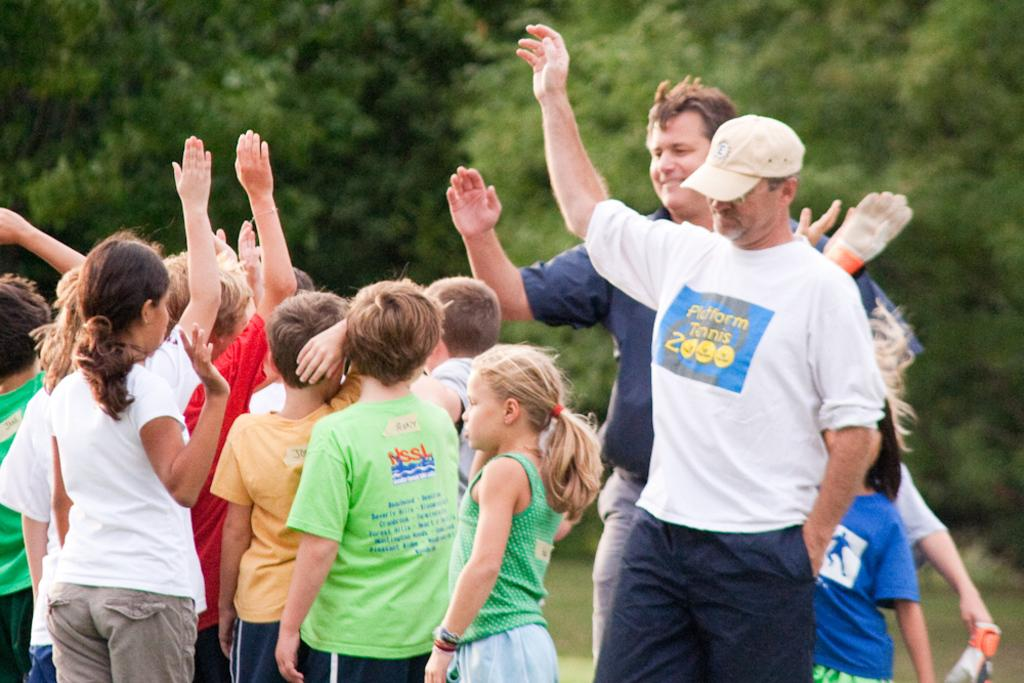Sem Máscara: (641, 105, 708, 221), (710, 174, 785, 243), (457, 367, 512, 449)
